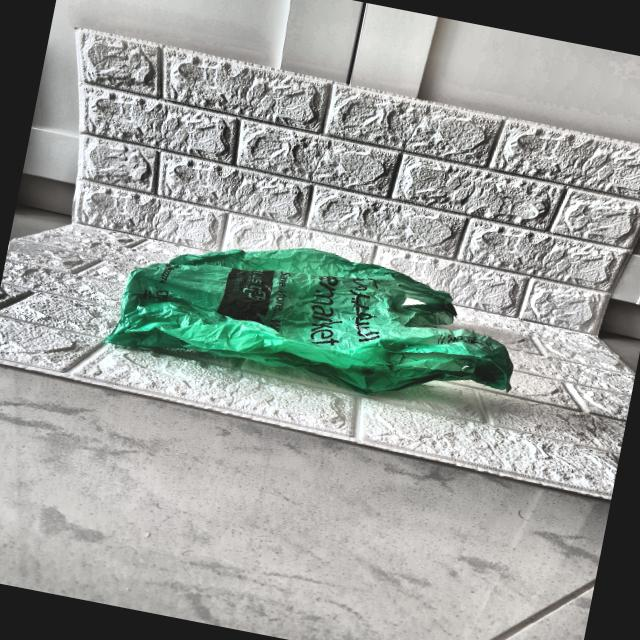plastic bag: (90, 196, 546, 436)
